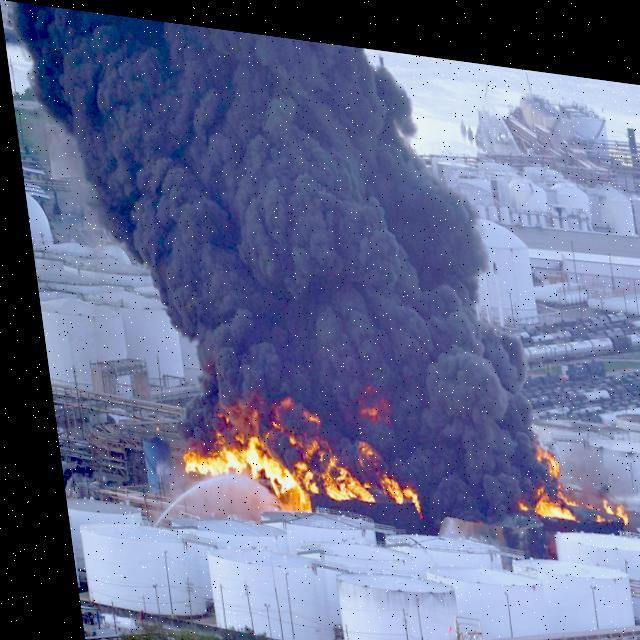Fire: (151, 401, 301, 506), (262, 388, 364, 502), (484, 416, 576, 518), (356, 434, 414, 506), (583, 471, 620, 518)
